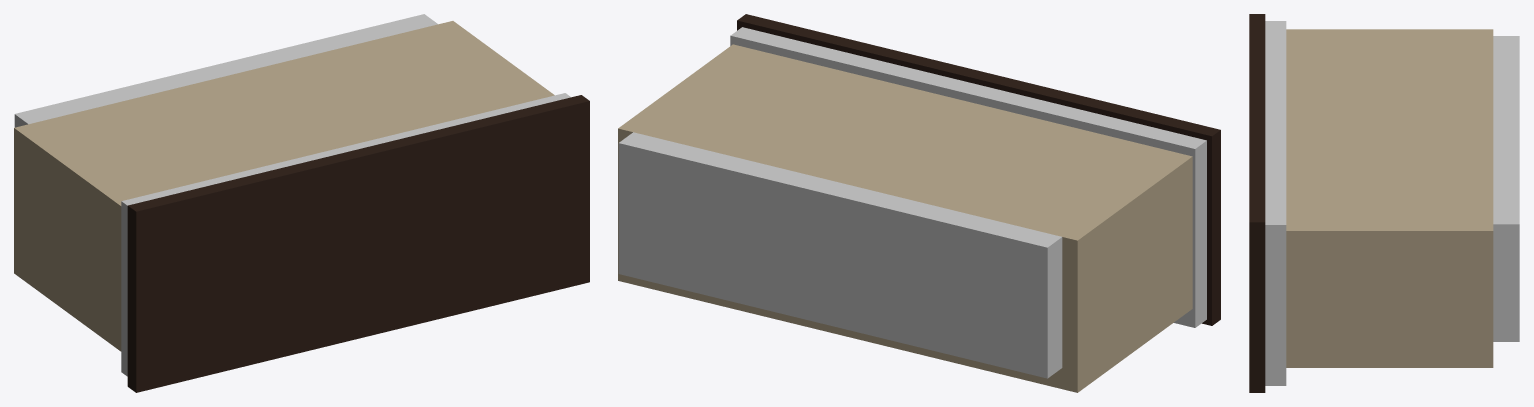
The model's file is SM_BSW_ServiceCounter.obj.
The picture shows the model from 3 angles, left to right: view 1: azimuth 30°, elevation 25°; view 2: azimuth 150°, elevation 25°; view 3: azimuth 270°, elevation 25°; orthographic projection. The views are drawn at different scales.
Parts seen in each view (by area): view 1: SM_BSW_ServiceCounter; view 2: SM_BSW_ServiceCounter; view 3: SM_BSW_ServiceCounter.
Boxes of the visible parts, box(x1,y1,x2,y2) form: SM_BSW_ServiceCounter: box(14, 14, 589, 392); SM_BSW_ServiceCounter: box(618, 14, 1220, 392); SM_BSW_ServiceCounter: box(1249, 14, 1519, 392).
Bounding box in the file's own units: 186 × 71 × 102.
